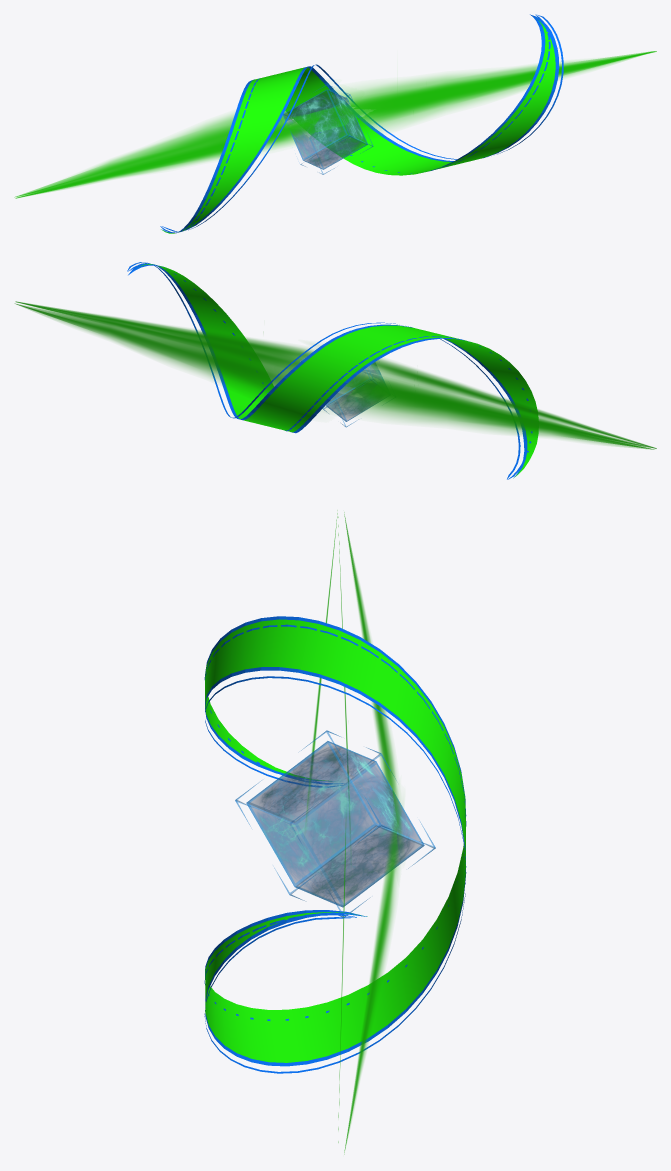
The picture shows the model from 3 angles, top to bottom: view 1: azimuth 30°, elevation 25°; view 2: azimuth 150°, elevation 25°; view 3: azimuth 270°, elevation 25°; orthographic projection. The views are drawn at different scales.
Parts seen in each view (by area): view 1: Concept 203, Plane008, Concept 201, Plane007, Plane006, Plane005, Plane004, Concept 2 orange line01, Plane002; view 2: Concept 203, Plane007, Plane008, Plane005, Plane004, Plane006, Plane002, Concept 201, Concept 2 orange line01; view 3: Concept 203, Concept 201, Concept 2 orange line01, Plane008, Plane007.
Boxes of the visible parts, <box> form: Concept 203: <box>161,14,559,233</box>; Plane008: <box>335,51,654,133</box>; Concept 201: <box>283,89,367,169</box>; Plane007: <box>14,91,318,197</box>; Plane006: <box>326,51,656,113</box>; Plane005: <box>335,51,655,123</box>; Plane004: <box>15,107,367,198</box>; Concept 2 orange line01: <box>160,14,563,232</box>; Plane002: <box>24,124,325,196</box>; Concept 203: <box>128,263,538,478</box>; Plane007: <box>339,369,654,449</box>; Plane008: <box>14,303,297,397</box>; Plane005: <box>18,302,306,369</box>; Plane004: <box>370,359,656,448</box>; Plane006: <box>15,301,314,359</box>; Plane002: <box>357,378,655,448</box>; Concept 201: <box>325,363,384,421</box>; Concept 2 orange line01: <box>127,262,532,479</box>; Concept 203: <box>204,616,466,1066</box>; Concept 201: <box>246,741,424,907</box>; Concept 2 orange line01: <box>204,624,466,1073</box>; Plane008: <box>344,811,400,1154</box>; Plane007: <box>344,512,401,843</box>.
Bounding box in the file's own units: 1.7 × 0.3024 × 0.2999.
Materials: 5 (2 with a texture image).
